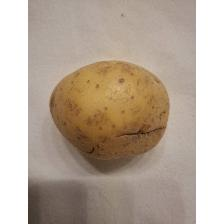Kartoffel: (45, 58, 173, 166)
